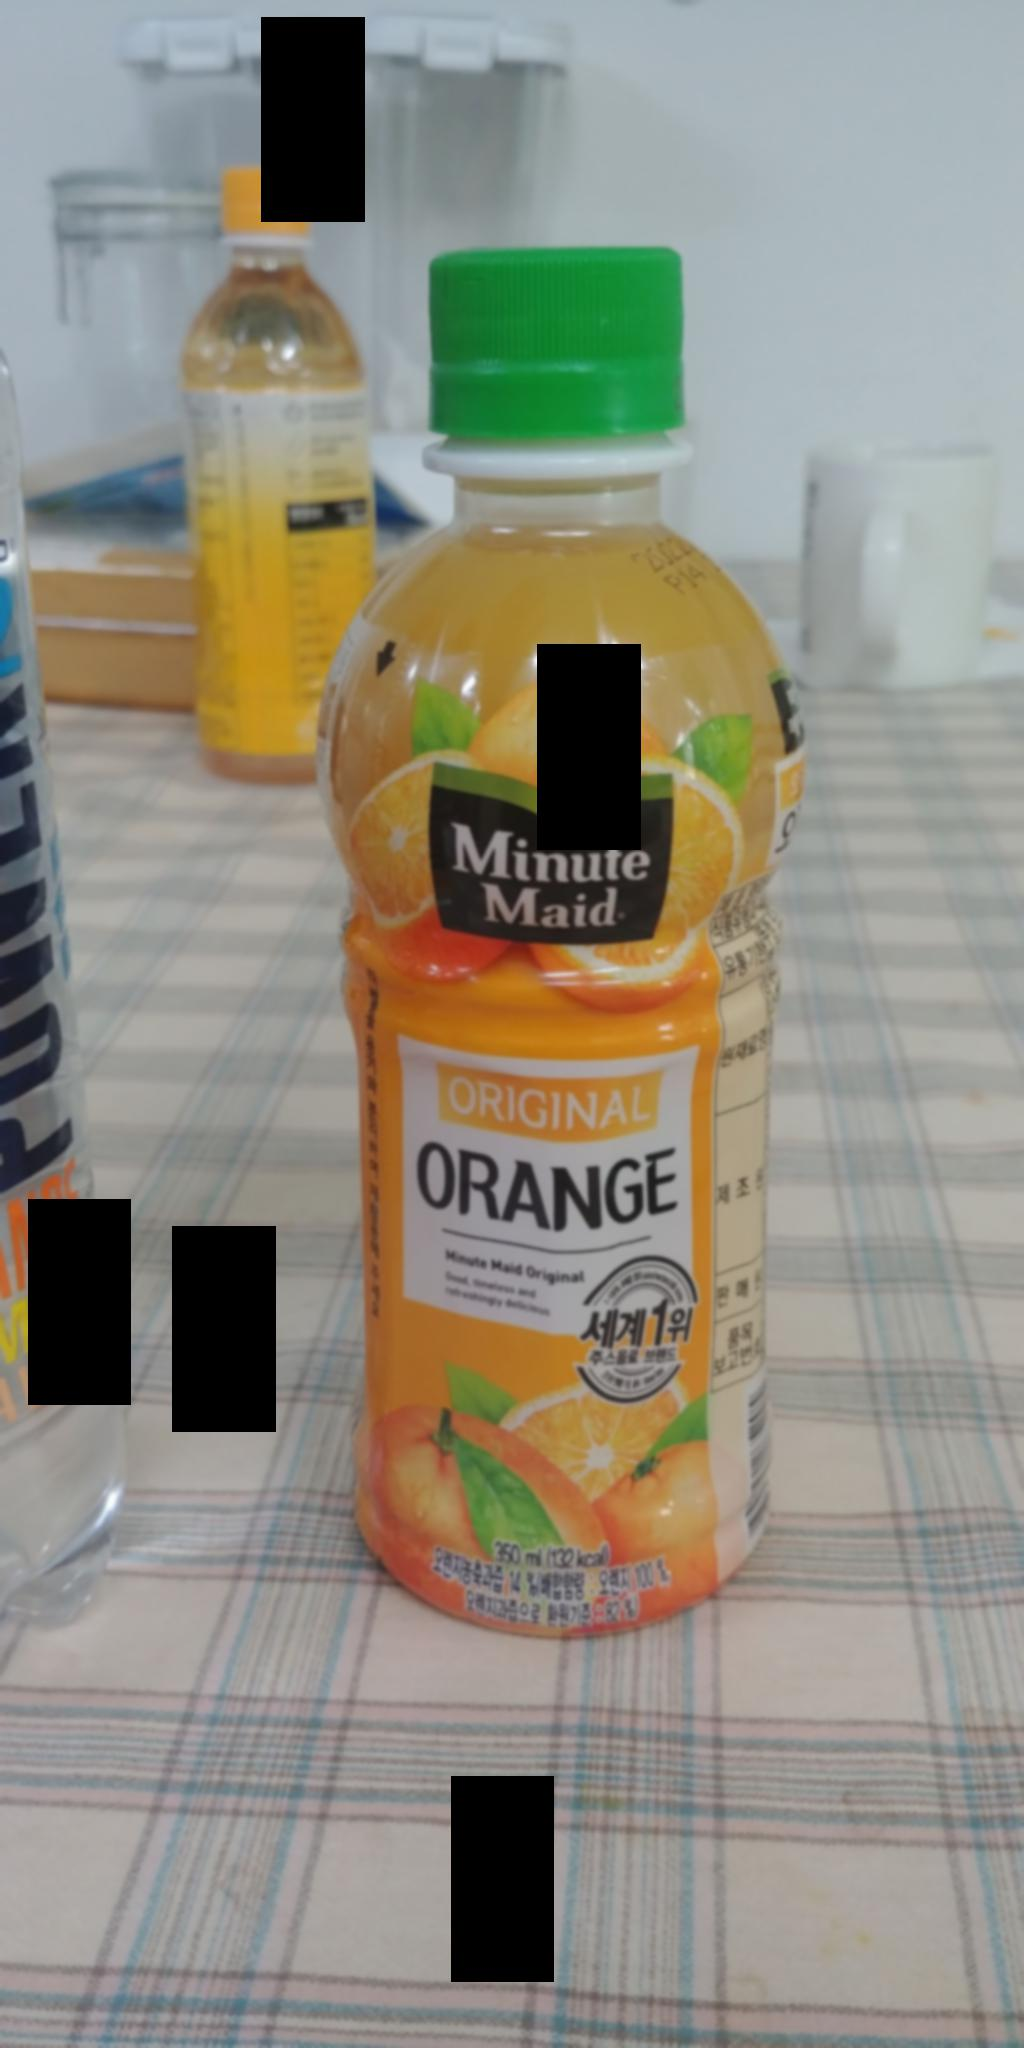minutemaid_org_orange: (291, 239, 794, 1650)
